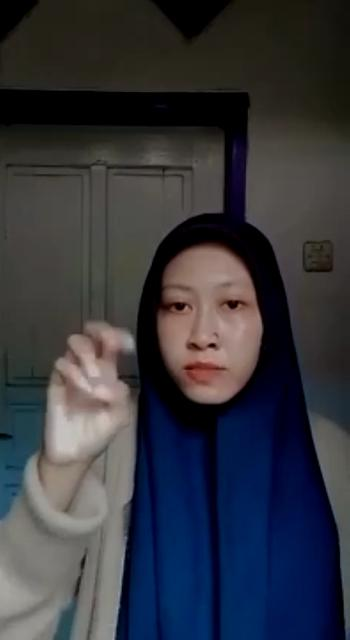R: (38, 316, 140, 468)
